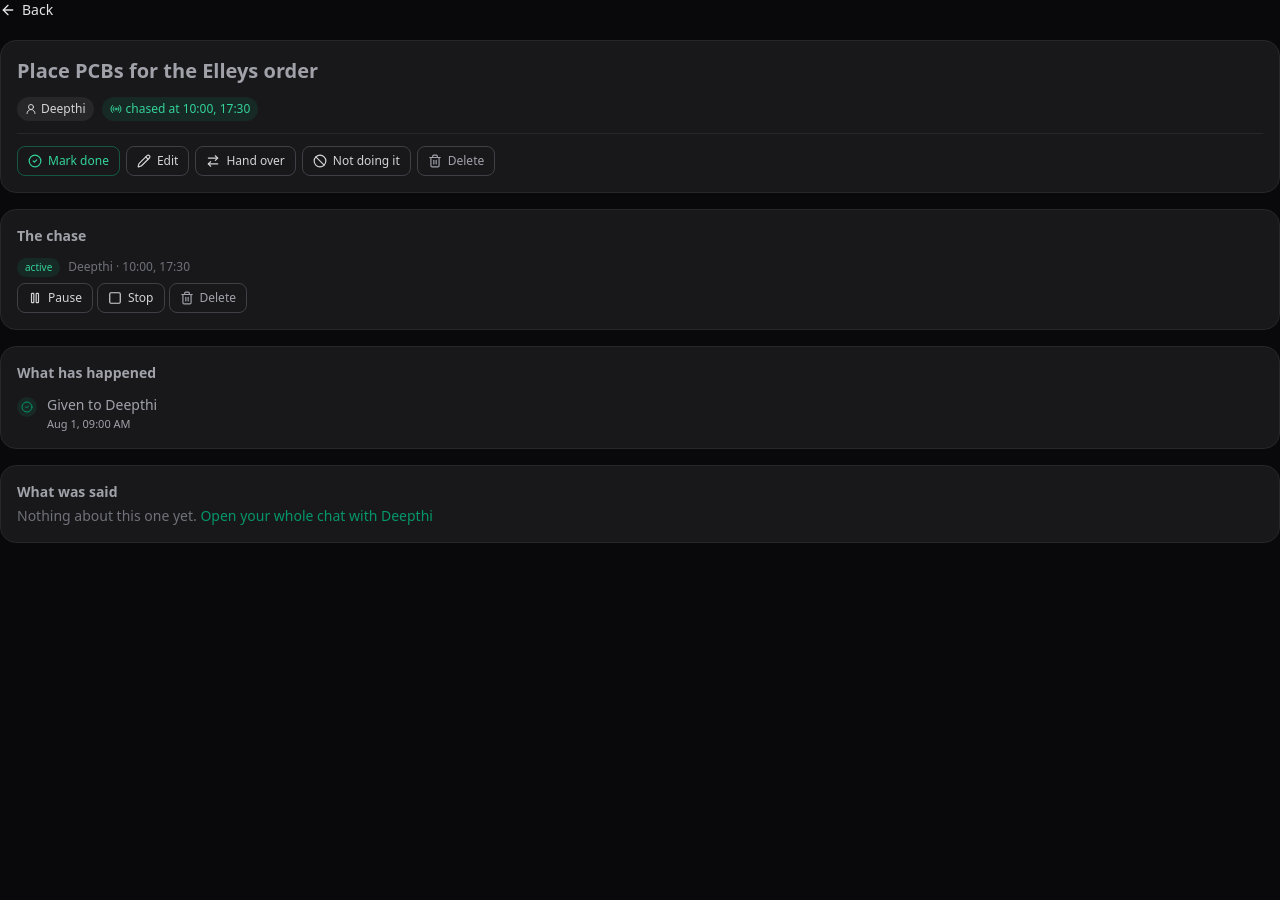
Scenario: acting on the chase (BEA-1315) › stopping confirms first and promises the job survives
This screenshot has width=1280, height=900.
Click the button "Stop".
click(131, 298)  # box [97,282,164,312]
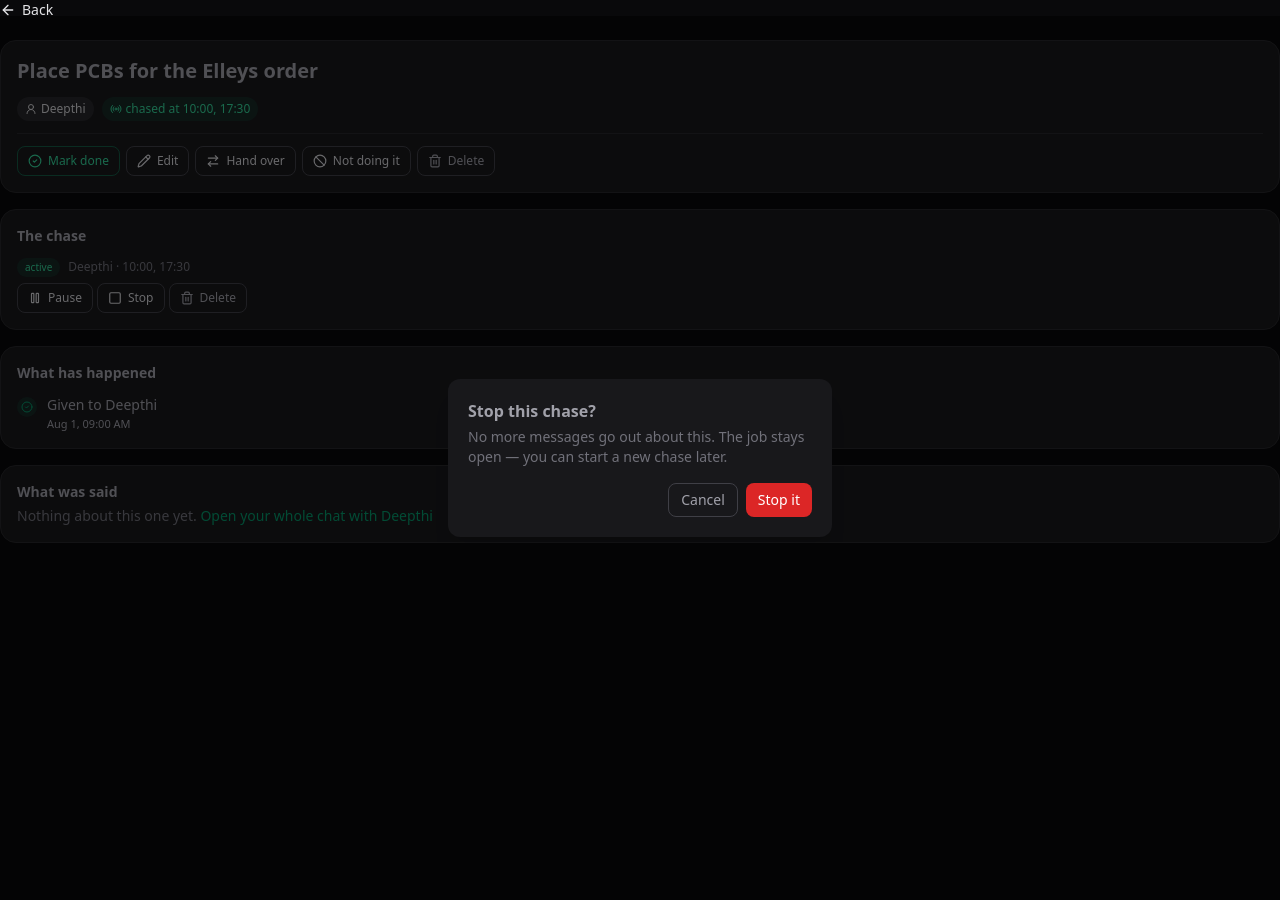
Now the heading "Stop this chase?" is shown, box [468,400,596,422]
Now the text "The job stays open" is shown, box [468,427,804,466]
